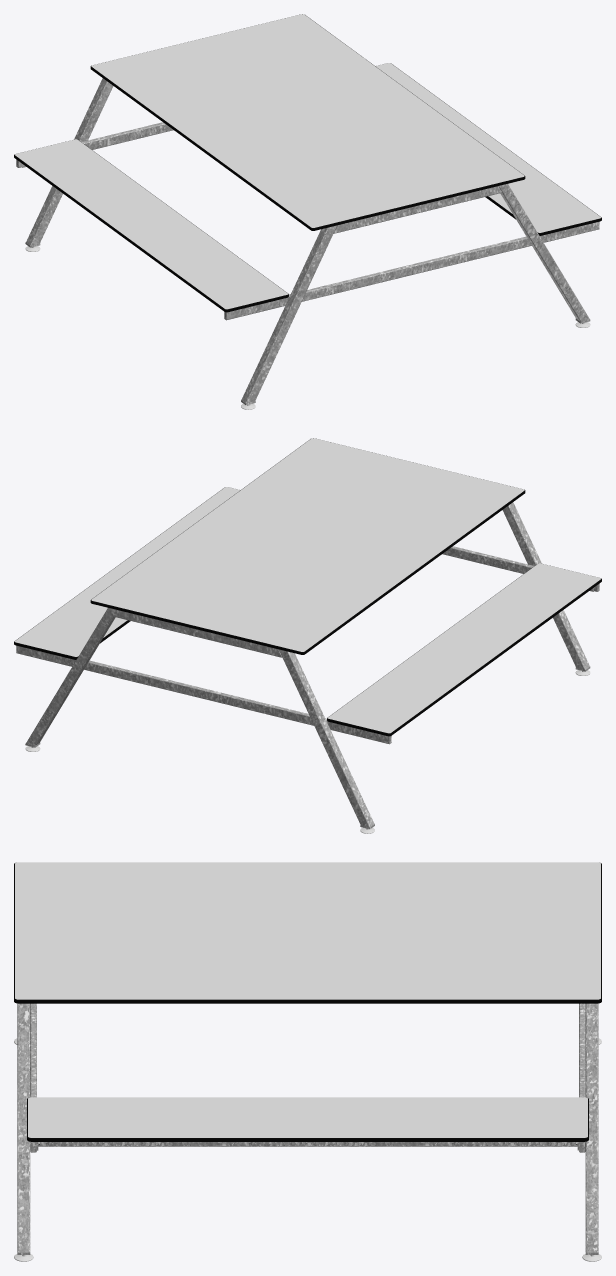
Rendered from rustik-team-outdoor-180.glb.
3 renders of one model, top to bottom at view 1: azimuth 30°, elevation 25°; view 2: azimuth 150°, elevation 25°; view 3: azimuth 270°, elevation 25°, orthographic. The views are drawn at different scales.
Parts seen in each view (by area): view 1: Tischplatte, Sitzplatte, Gestell, HPL-Kante; view 2: Tischplatte, Sitzplatte, Gestell, HPL-Kante; view 3: Tischplatte, Sitzplatte, Gestell, HPL-Kante.
Boxes of the visible parts, <box> form: Tischplatte: <box>91,14,524,227</box>; Sitzplatte: <box>15,63,601,309</box>; Gestell: <box>16,78,599,405</box>; HPL-Kante: <box>14,14,601,312</box>; Tischplatte: <box>91,438,524,651</box>; Sitzplatte: <box>14,487,600,733</box>; Gestell: <box>16,502,599,829</box>; HPL-Kante: <box>14,438,601,736</box>; Tischplatte: <box>15,862,600,999</box>; Sitzplatte: <box>28,1097,587,1137</box>; Gestell: <box>17,1003,598,1254</box>; HPL-Kante: <box>14,863,601,1141</box>.
Bounding box in the file's own units: 1.76 × 0.74 × 1.8.
3 materials, 1 textured.
